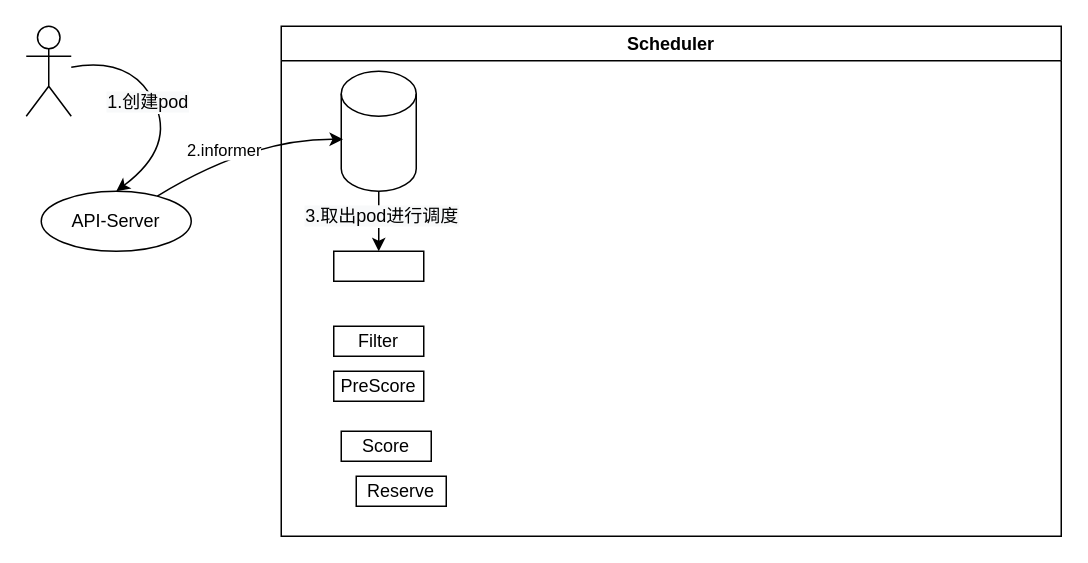
This 1088x563 diagram has some shape labels left out. Here are the shapes that lost their labels. From the top down, the box of each, then its label:
(25, 25, 71, 116): Actor
(340, 70, 416, 191): activeQ
(332, 250, 424, 281): PreFilter
